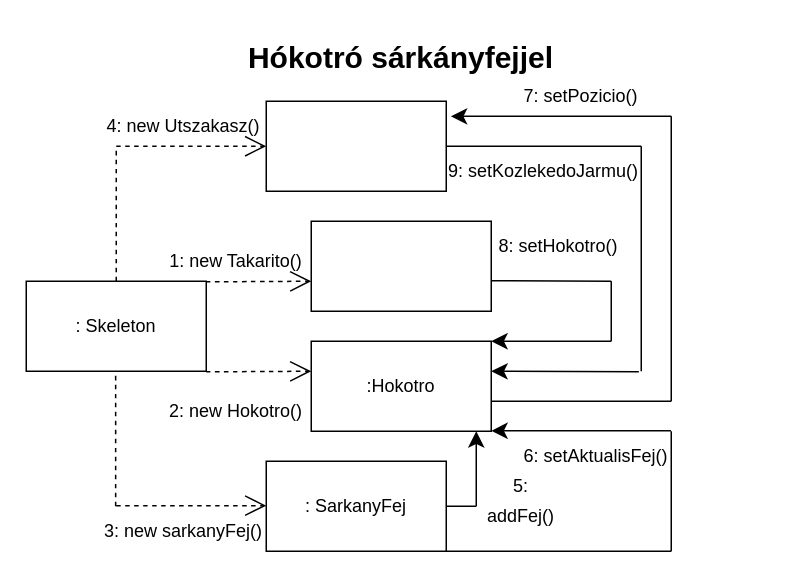
Some shapes in this 803 by 579 pixel diagram are drawn without their labels. Each missing label, with the centre of its shape:
": Takarito" belongs at [400,265].
":Utszakasz" belongs at [355,145].
